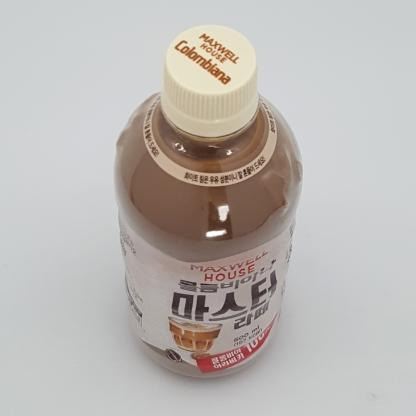------------------500ML: (113, 25, 303, 378)
